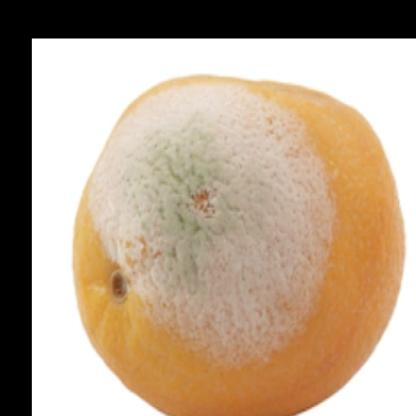rotten: (75, 72, 405, 416)
